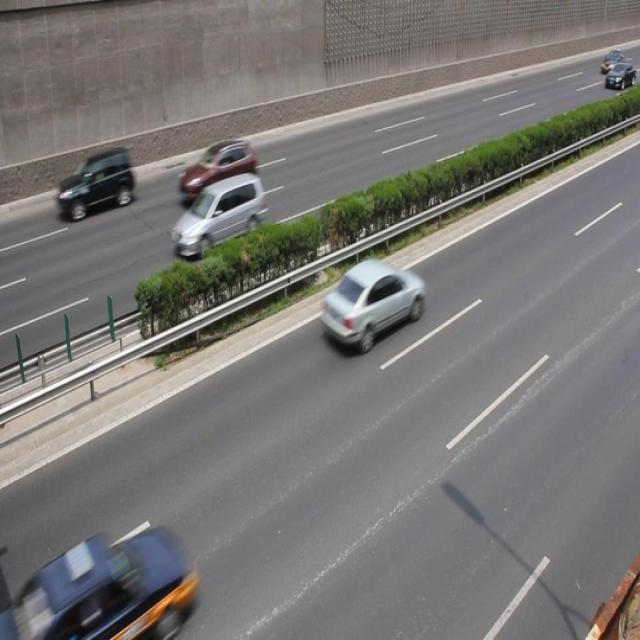car: (35, 526, 195, 640), (317, 260, 422, 352), (171, 172, 265, 265), (54, 144, 134, 222), (177, 142, 258, 210)
